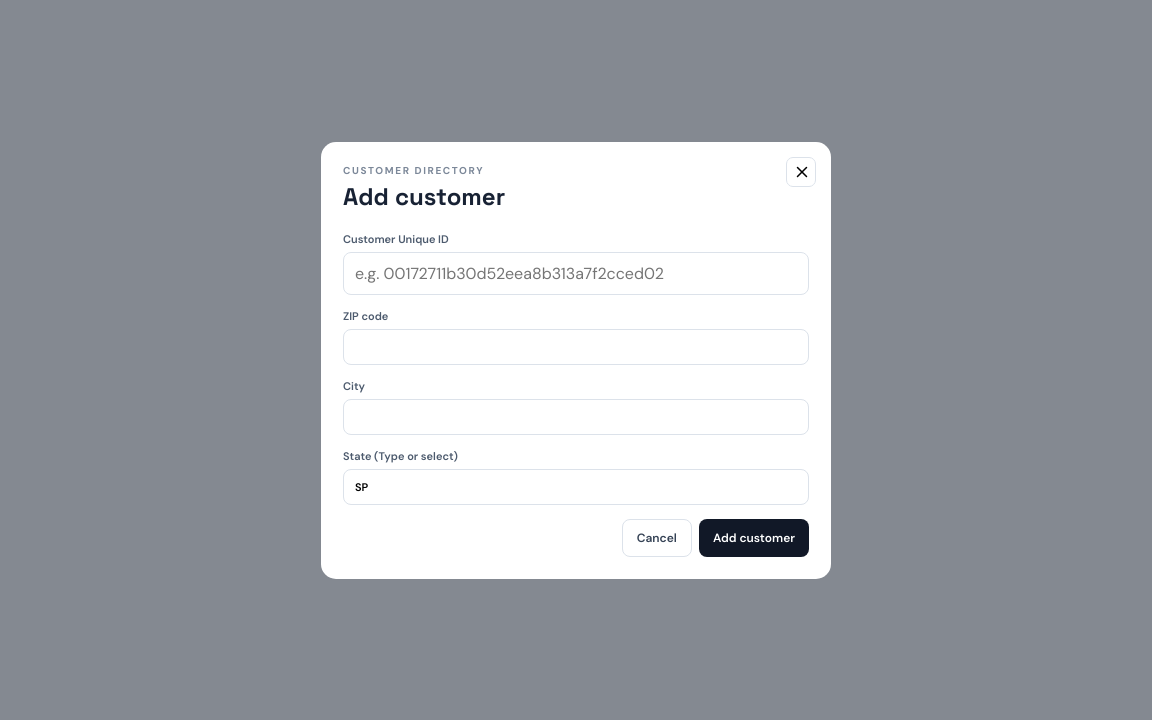
CustomerModal Component › validates empty customer unique ID
This screenshot has width=1152, height=720.
Step 1. Click the button "Add customer" → coordinates (754, 538), box [699,518,809,556]
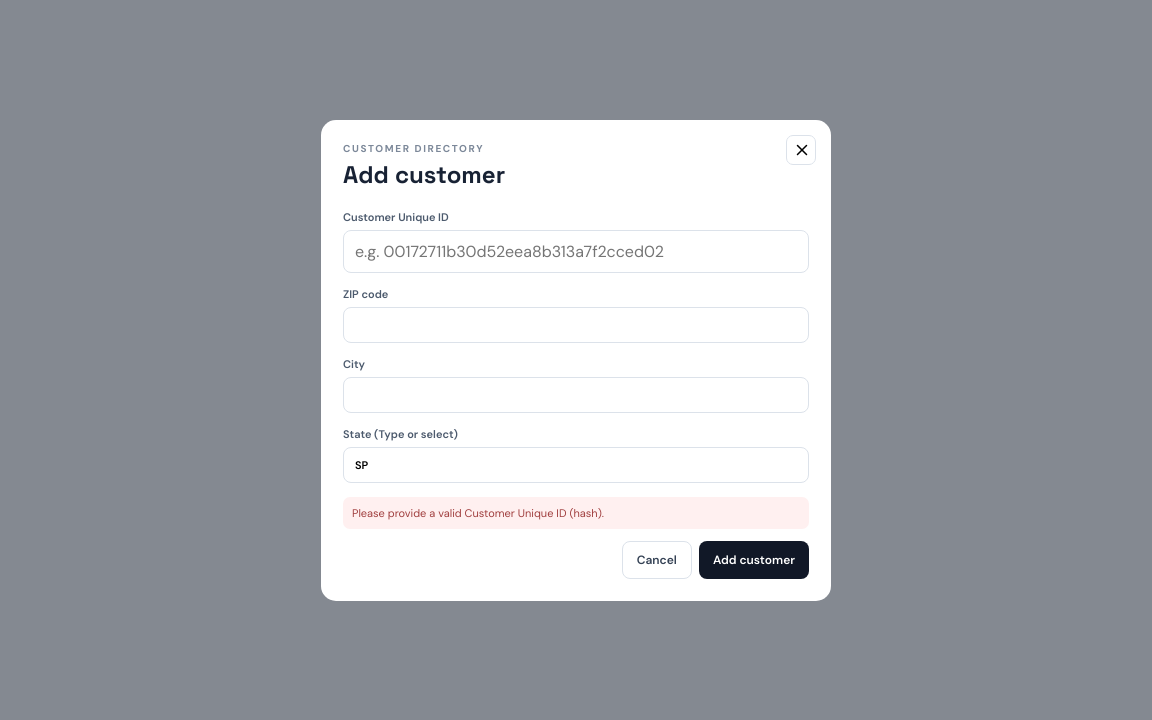
Expected: the text "Please provide a valid Customer Unique ID (hash)." is shown, [343,496,809,528]
